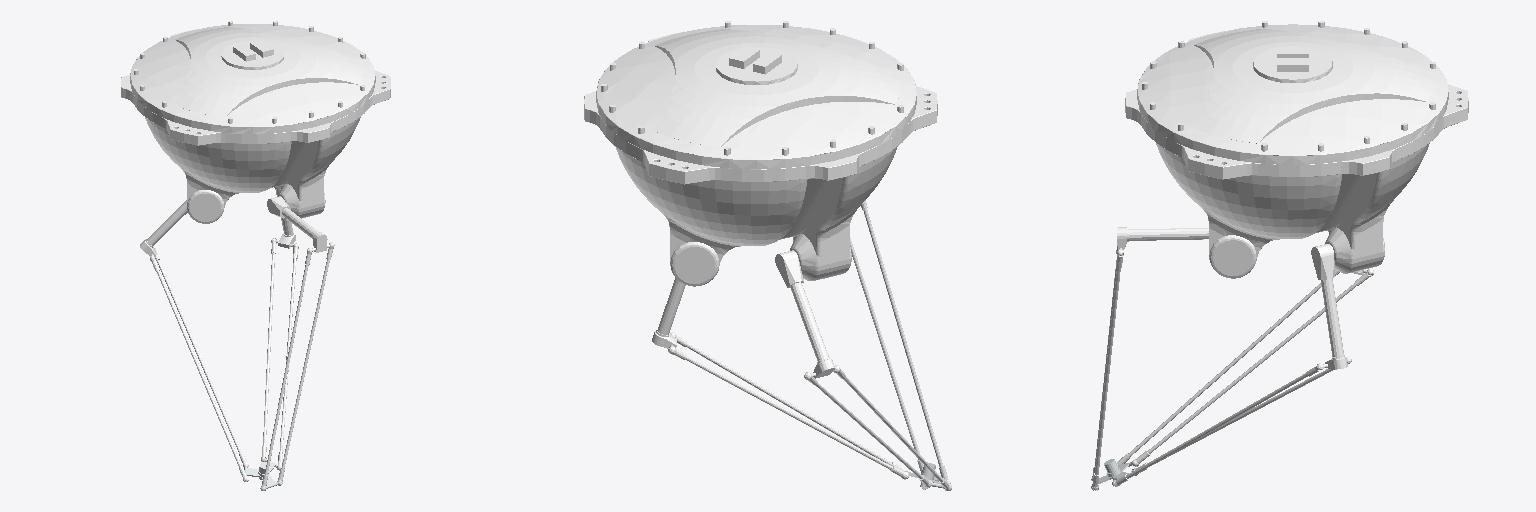
URDF robot description (delta_discription):
<?xml version="1.0" encoding="utf-8"?>
<!-- This URDF was automatically created by SolidWorks to URDF Exporter! Originally created by [author] ([email redacted]) 
     Commit Version: 1.6.0-1-g15f4949  Build Version: 1.6.7594.29634
     For more information, please see http://wiki.ros.org/sw_urdf_exporter -->
<robot
  name="delta_discription">
  <link
    name="base_link">
    <inertial>
      <origin
        xyz="0.380382318022096 -0.533525803977991 0.659302446320337"
        rpy="0 0 0" />
      <mass
        value="156.162689770185" />
      <inertia
        ixx="7.59889681143528"
        ixy="9.24660486504419E-05"
        ixz="-0.000259409545019049"
        iyy="7.59824264740178"
        iyz="0.000102275137498657"
        izz="10.3617884952824" />
    </inertial>
    <visual>
      <origin
        xyz="0 0 0"
        rpy="0 0 0" />
      <geometry>
        <mesh
          filename="package://delta_discription/meshes/base_link.STL" />
      </geometry>
      <material
        name="">
        <color
          rgba="1 1 1 1" />
      </material>
    </visual>
    <collision>
      <origin
        xyz="0 0 0"
        rpy="0 0 0" />
      <geometry>
        <mesh
          filename="package://delta_discription/meshes/base_link.STL" />
      </geometry>
    </collision>
  </link>
  <link
    name="upper_arm1">
    <inertial>
      <origin
        xyz="0.114717719632823 0.00451923796282966 0.0495423329847035"
        rpy="0 0 0" />
      <mass
        value="0.646884397697054" />
      <inertia
        ixx="0.000179231282056178"
        ixy="-0.000342164655935425"
        ixz="-4.03327188408262E-09"
        iyy="0.00674313691469619"
        iyz="-3.52018183707872E-11"
        izz="0.00677709135319978" />
    </inertial>
    <visual>
      <origin
        xyz="0 0 0"
        rpy="0 0 0" />
      <geometry>
        <mesh
          filename="package://delta_discription/meshes/upper_arm1.STL" />
      </geometry>
      <material
        name="">
        <color
          rgba="1 1 1 1" />
      </material>
    </visual>
    <collision>
      <origin
        xyz="0 0 0"
        rpy="0 0 0" />
      <geometry>
        <mesh
          filename="package://delta_discription/meshes/upper_arm1.STL" />
      </geometry>
    </collision>
  </link>
  <joint
    name="joint1"
    type="revolute">
    <origin
      xyz="0.33287 -0.68352 0.39876"
      rpy="-1.5708 0 -1.5708" />
    <parent
      link="base_link" />
    <child
      link="upper_arm1" />
    <axis
      xyz="0 0 1" />
    <limit
      lower="-0.023507"
      upper="3.1181"
      effort="0"
      velocity="0" />
  </joint>
  <link
    name="lower_arm1">
    <inertial>
      <origin
        xyz="-0.021707964117052 -0.322501157611932 -0.232436539211299"
        rpy="0 0 0" />
      <mass
        value="0.254921517289438" />
      <inertia
        ixx="0.0162417473096431"
        ixy="0.000736639548546273"
        ixz="0.000551950364993036"
        iyy="0.00588124689979701"
        iyz="-0.00778664861983202"
        izz="0.0104742883098199" />
    </inertial>
    <visual>
      <origin
        xyz="0 0 0"
        rpy="0 0 0" />
      <geometry>
        <mesh
          filename="package://delta_discription/meshes/lower_arm1.STL" />
      </geometry>
      <material
        name="">
        <color
          rgba="1 1 1 1" />
      </material>
    </visual>
    <collision>
      <origin
        xyz="0 0 0"
        rpy="0 0 0" />
      <geometry>
        <mesh
          filename="package://delta_discription/meshes/lower_arm1.STL" />
      </geometry>
    </collision>
  </link>
  <joint
    name="joint_lower1"
    type="continuous">
    <origin
      xyz="0.27257 0.024629 0.0052966"
      rpy="-0.032509 1.1708 -2.6733" />
    <parent
      link="upper_arm1" />
    <child
      link="lower_arm1" />
    <axis
      xyz="0.55852 0 0.82949" />
  </joint>
  <link
    name="upper_arm2">
    <inertial>
      <origin
        xyz="0.0322853032152448 -0.110173655517446 0.18435666668168"
        rpy="0 0 0" />
      <mass
        value="0.646884265635282" />
      <inertia
        ixx="0.00628290633133784"
        ixy="0.00171060530609794"
        ixz="1.29454031327046E-09"
        iyy="0.000639461240687251"
        iyz="-3.8644697733731E-09"
        izz="0.00677709073894638" />
    </inertial>
    <visual>
      <origin
        xyz="0 0 0"
        rpy="0 0 0" />
      <geometry>
        <mesh
          filename="package://delta_discription/meshes/upper_arm2.STL" />
      </geometry>
      <material
        name="">
        <color
          rgba="1 1 1 1" />
      </material>
    </visual>
    <collision>
      <origin
        xyz="0 0 0"
        rpy="0 0 0" />
      <geometry>
        <mesh
          filename="package://delta_discription/meshes/upper_arm2.STL" />
      </geometry>
    </collision>
  </link>
  <joint
    name="joint2"
    type="revolute">
    <origin
      xyz="0.41708 -0.2971 0.39876"
      rpy="1.5708 0 0.5236" />
    <parent
      link="base_link" />
    <child
      link="upper_arm2" />
    <axis
      xyz="0 0 1" />
    <limit
      lower="-1.8717"
      upper="1.2699"
      effort="0"
      velocity="0" />
  </joint>
  <link
    name="lower_arm2">
    <inertial>
      <origin
        xyz="0.0706968415345207 -0.670792446882932 -0.035966183429145"
        rpy="0 0 0" />
      <mass
        value="0.254921518461366" />
      <inertia
        ixx="0.0152989706937459"
        ixy="0.00350131809075235"
        ixz="0.00172847014089448"
        iyy="0.00399847449816859"
        iyz="-0.00606420705263744"
        izz="0.01329983753649" />
    </inertial>
    <visual>
      <origin
        xyz="0 0 0"
        rpy="0 0 0" />
      <geometry>
        <mesh
          filename="package://delta_discription/meshes/lower_arm2.STL" />
      </geometry>
      <material
        name="">
        <color
          rgba="1 1 1 1" />
      </material>
    </visual>
    <collision>
      <origin
        xyz="0 0 0"
        rpy="0 0 0" />
      <geometry>
        <mesh
          filename="package://delta_discription/meshes/lower_arm2.STL" />
      </geometry>
    </collision>
  </link>
  <joint
    name="joint_lower2"
    type="continuous">
    <origin
      xyz="0.161268370049302 0.0346872050122739 0.314264003482573"
      rpy="3.12859851500547 0.227751807455416 2.64041159012637" />
    <parent
      link="upper_arm2" />
    <child
      link="lower_arm2" />
    <axis
      xyz="0.699045374184477 0 -0.71507731388381" />
  </joint>
  <link
    name="upper_arm3">
    <inertial>
      <origin
        xyz="0.0761630107676466 -0.0859055529745852 -0.0251673249760944"
        rpy="0 0 0" />
      <mass
        value="0.646884059698876" />
      <inertia
        ixx="0.00393867528694986"
        ixy="0.00326500898768455"
        ixz="2.41497231077709E-09"
        iyy="0.00298369030024089"
        iyz="-2.55579990361041E-09"
        izz="0.00677708897014133" />
    </inertial>
    <visual>
      <origin
        xyz="0 0 0"
        rpy="0 0 0" />
      <geometry>
        <mesh
          filename="package://delta_discription/meshes/upper_arm3.STL" />
      </geometry>
      <material
        name="">
        <color
          rgba="1 1 1 1" />
      </material>
    </visual>
    <collision>
      <origin
        xyz="0 0 0"
        rpy="0 0 0" />
      <geometry>
        <mesh
          filename="package://delta_discription/meshes/upper_arm3.STL" />
      </geometry>
    </collision>
  </link>
  <joint
    name="joint3"
    type="revolute">
    <origin
      xyz="0.26203 -0.43849 0.39876"
      rpy="1.5708 0 2.618" />
    <parent
      link="base_link" />
    <child
      link="upper_arm3" />
    <axis
      xyz="0 0 1" />
    <limit
      lower="-2.312"
      upper="0.82957"
      effort="0"
      velocity="0" />
  </joint>
  <link
    name="lower_arm3">
    <inertial>
      <origin
        xyz="0.16534978705673 -0.430748877998559 -0.227909137059853"
        rpy="0 0 0" />
      <mass
        value="0.254921515874464" />
      <inertia
        ixx="0.0140457033797131"
        ixy="0.00475490794608341"
        ixz="0.00299571223613778"
        iyy="0.00624454685727854"
        iyz="-0.0063246362518434"
        izz="0.012307032031117" />
    </inertial>
    <visual>
      <origin
        xyz="0 0 0"
        rpy="0 0 0" />
      <geometry>
        <mesh
          filename="package://delta_discription/meshes/lower_arm3.STL" />
      </geometry>
      <material
        name="">
        <color
          rgba="1 1 1 1" />
      </material>
    </visual>
    <collision>
      <origin
        xyz="0 0 0"
        rpy="0 0 0" />
      <geometry>
        <mesh
          filename="package://delta_discription/meshes/lower_arm3.STL" />
      </geometry>
    </collision>
  </link>
  <joint
    name="joint_lower3"
    type="continuous">
    <origin
      xyz="0.23048 -0.12561 0.015497"
      rpy="0.015923 0.65183 -0.48859" />
    <parent
      link="upper_arm3" />
    <child
      link="lower_arm3" />
    <axis
      xyz="0 1 0" />
  </joint>
  <link
    name="target">
    <inertial>
      <origin
        xyz="0.219558851194741 -0.0417365793878853 -0.447434386464146"
        rpy="0 0 0" />
      <mass
        value="0.20739709832407" />
      <inertia
        ixx="0.000173436992606646"
        ixy="8.74945085618457E-06"
        ixz="-3.67322029953766E-06"
        iyy="0.000260744649223034"
        iyz="-3.7018381729366E-05"
        izz="0.000188110125728596" />
    </inertial>
    <visual>
      <origin
        xyz="0 0 0"
        rpy="0 0 0" />
      <geometry>
        <mesh
          filename="package://delta_discription/meshes/target.STL" />
      </geometry>
      <material
        name="">
        <color
          rgba="0.898039215686275 0.917647058823529 0.929411764705882 1" />
      </material>
    </visual>
    <collision>
      <origin
        xyz="0 0 0"
        rpy="0 0 0" />
      <geometry>
        <mesh
          filename="package://delta_discription/meshes/target.STL" />
      </geometry>
    </collision>
  </link>
  <joint
    name="joint_targer"
    type="fixed">
    <origin
      xyz="0.38037 -0.53352 -0.32514"
      rpy="1.5708 0 -3.1416" />
    <parent
      link="base_link" />
    <child
      link="target" />
    <axis
      xyz="0 0 0" />
  </joint>
</robot>

--- Render facts (derived) ---
3 views of the same robot in one strip: view 1: azimuth 30°, elevation 25°; view 2: azimuth 150°, elevation 25°; view 3: azimuth 270°, elevation 25° (orthographic).
Robot: delta_discription — 8 links, 7 joints (3 revolute, 3 continuous, 1 fixed); root link base_link; default pose: every joint at zero.
Links seen in each view (by area): view 1: base_link, lower_arm1, lower_arm3, lower_arm2, upper_arm1, upper_arm3; view 2: base_link, lower_arm2, lower_arm1, upper_arm3, lower_arm3, upper_arm2; view 3: base_link, lower_arm3, upper_arm2, lower_arm2, lower_arm1, upper_arm1.
Boxes of the visible links, x1=… form: base_link: x1=121, y1=21, x2=390, y2=223; lower_arm1: x1=260, y1=242, x2=334, y2=490; lower_arm3: x1=150, y1=245, x2=248, y2=481; lower_arm2: x1=261, y1=238, x2=298, y2=470; upper_arm1: x1=267, y1=196, x2=329, y2=252; upper_arm3: x1=140, y1=200, x2=187, y2=256; base_link: x1=584, y1=21, x2=937, y2=286; lower_arm2: x1=668, y1=332, x2=908, y2=479; lower_arm1: x1=850, y1=200, x2=950, y2=483; upper_arm3: x1=775, y1=250, x2=835, y2=378; lower_arm3: x1=804, y1=365, x2=951, y2=490; upper_arm2: x1=652, y1=278, x2=685, y2=348; base_link: x1=1125, y1=21, x2=1468, y2=278; lower_arm3: x1=1117, y1=269, x2=1373, y2=466; upper_arm2: x1=1311, y1=244, x2=1347, y2=369; lower_arm2: x1=1112, y1=357, x2=1351, y2=486; lower_arm1: x1=1091, y1=246, x2=1123, y2=491; upper_arm1: x1=1117, y1=227, x2=1208, y2=255.
Size in the robot's own frame: 0.8072 by 0.9452 by 1.3 metres.
8 mesh visuals loaded from 8 distinct referenced files (8 binary STL).